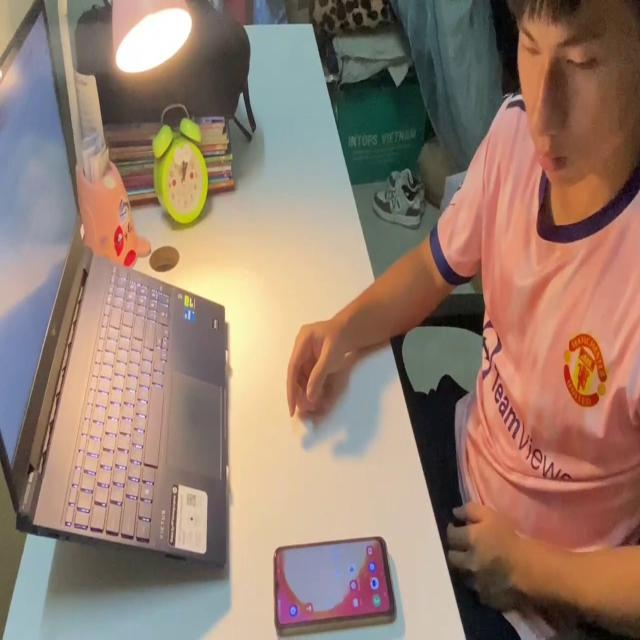laptop: (2, 0, 230, 574)
phone: (271, 536, 397, 634)
student: (285, 0, 640, 640)
